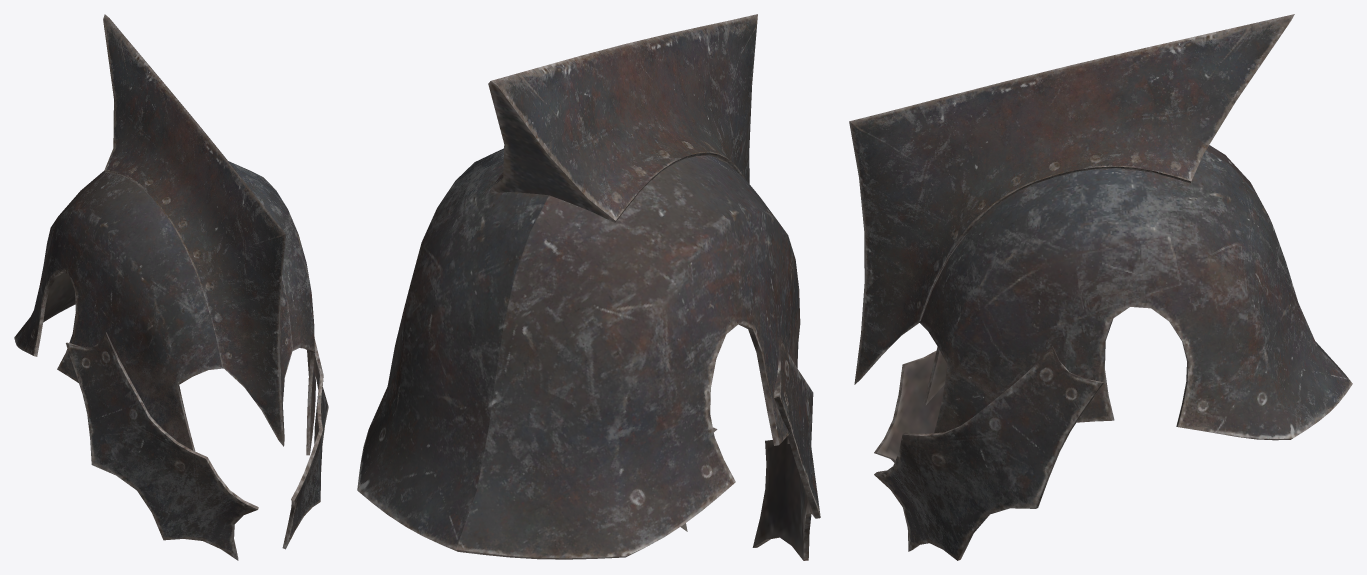
File: sk_dg_uruk_helmet_heavy_b.fbx
3 renders of one model, left to right at view 1: azimuth 30°, elevation 25°; view 2: azimuth 150°, elevation 25°; view 3: azimuth 270°, elevation 25°, orthographic. The views are drawn at different scales.
Parts seen in each view (by area): view 1: sk_dg_uruk_helmet_heavy_b; view 2: sk_dg_uruk_helmet_heavy_b; view 3: sk_dg_uruk_helmet_heavy_b.
Boxes of the visible parts, x1=… form: sk_dg_uruk_helmet_heavy_b: x1=14, y1=14, x2=328, y2=560; sk_dg_uruk_helmet_heavy_b: x1=357, y1=14, x2=820, y2=560; sk_dg_uruk_helmet_heavy_b: x1=849, y1=14, x2=1352, y2=560.
Size of the model in its own units: 0.2303 by 0.3357 by 0.385.
Materials: 1 (1 with a texture image).
